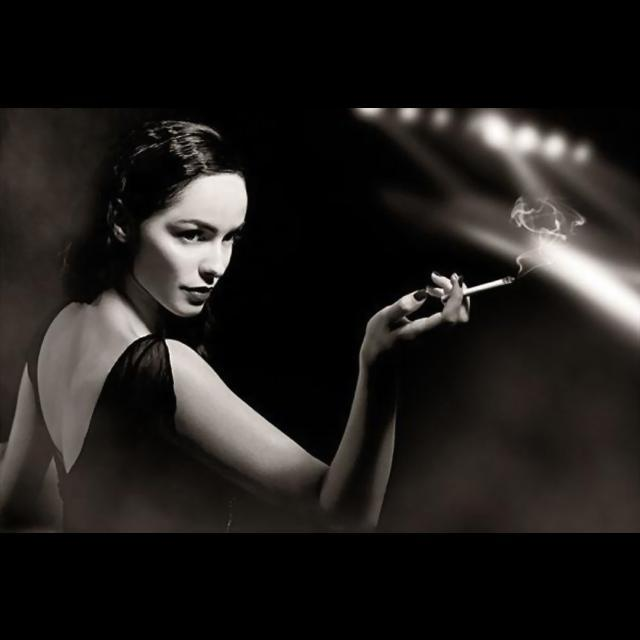rokok: (456, 270, 514, 298)
